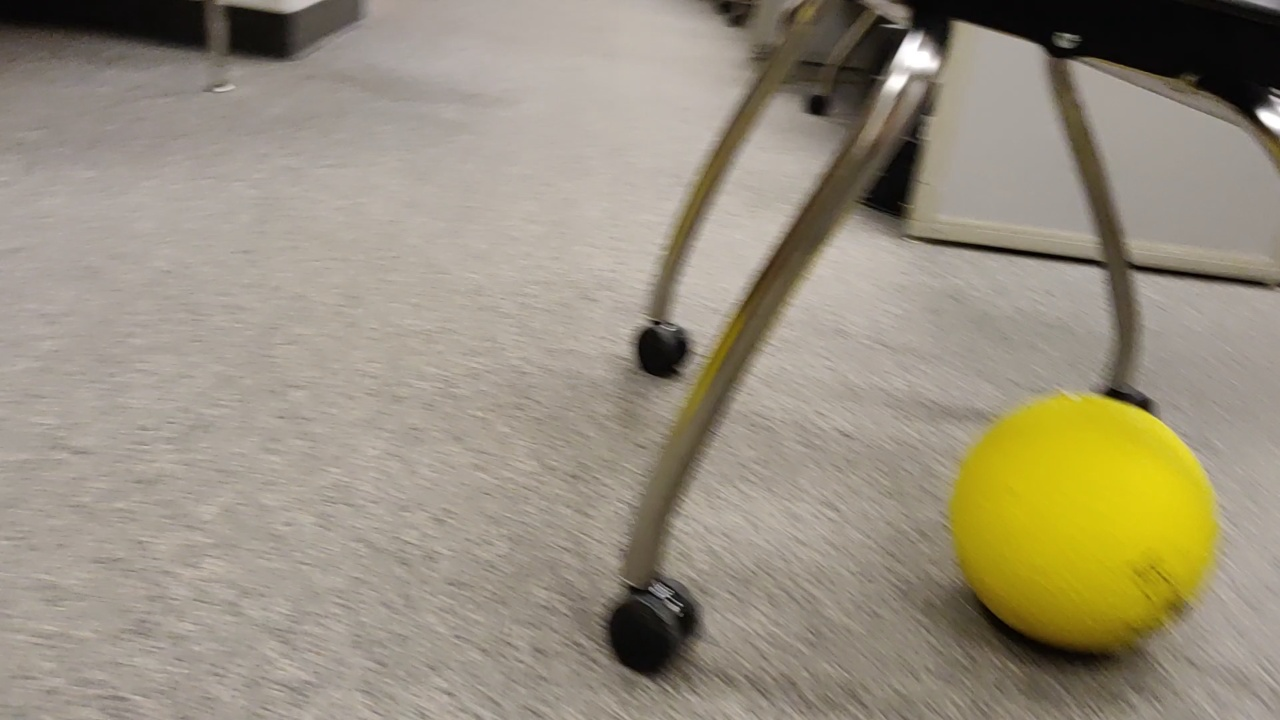Ball: (950, 393, 1222, 658)
